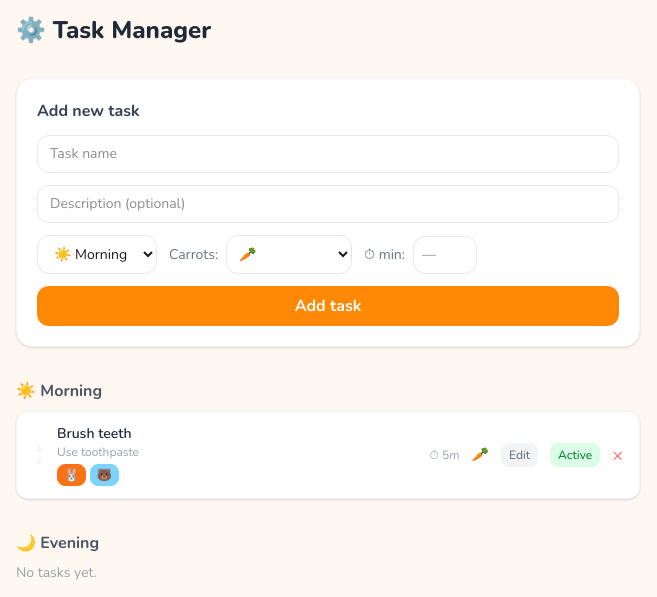
Test: TaskManager assignments › removes a child from assignments [] without making the task global
This screenshot has width=657, height=597.
Click the button titled "Remove Alice".
click(71, 475)  # box [57,464,86,486]
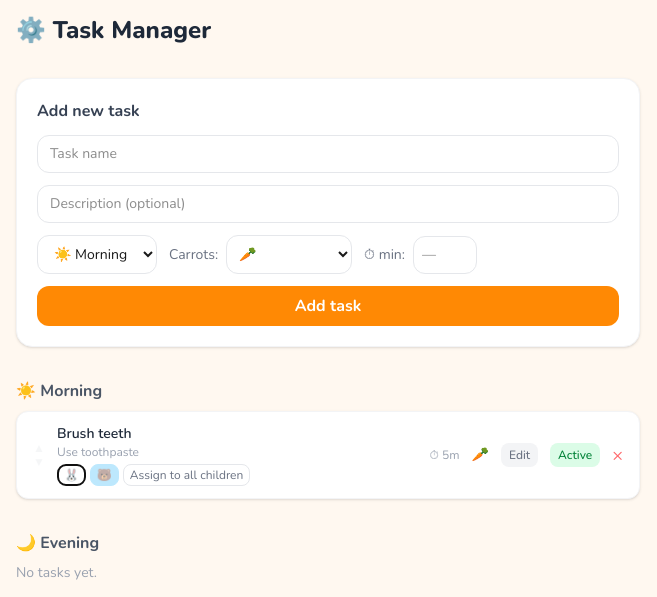
Result: the button titled "Add Alice" is shown at [57,464,86,486]
Result: the button titled "Remove Bob" is disabled at [90,464,119,486]
